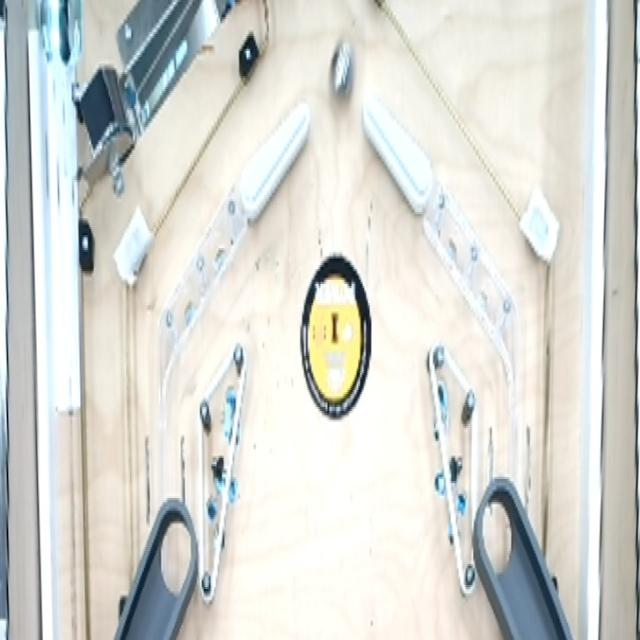ball: (328, 32, 356, 100)
flipper-left: (360, 82, 436, 218)
flipper-right: (235, 93, 312, 230)
